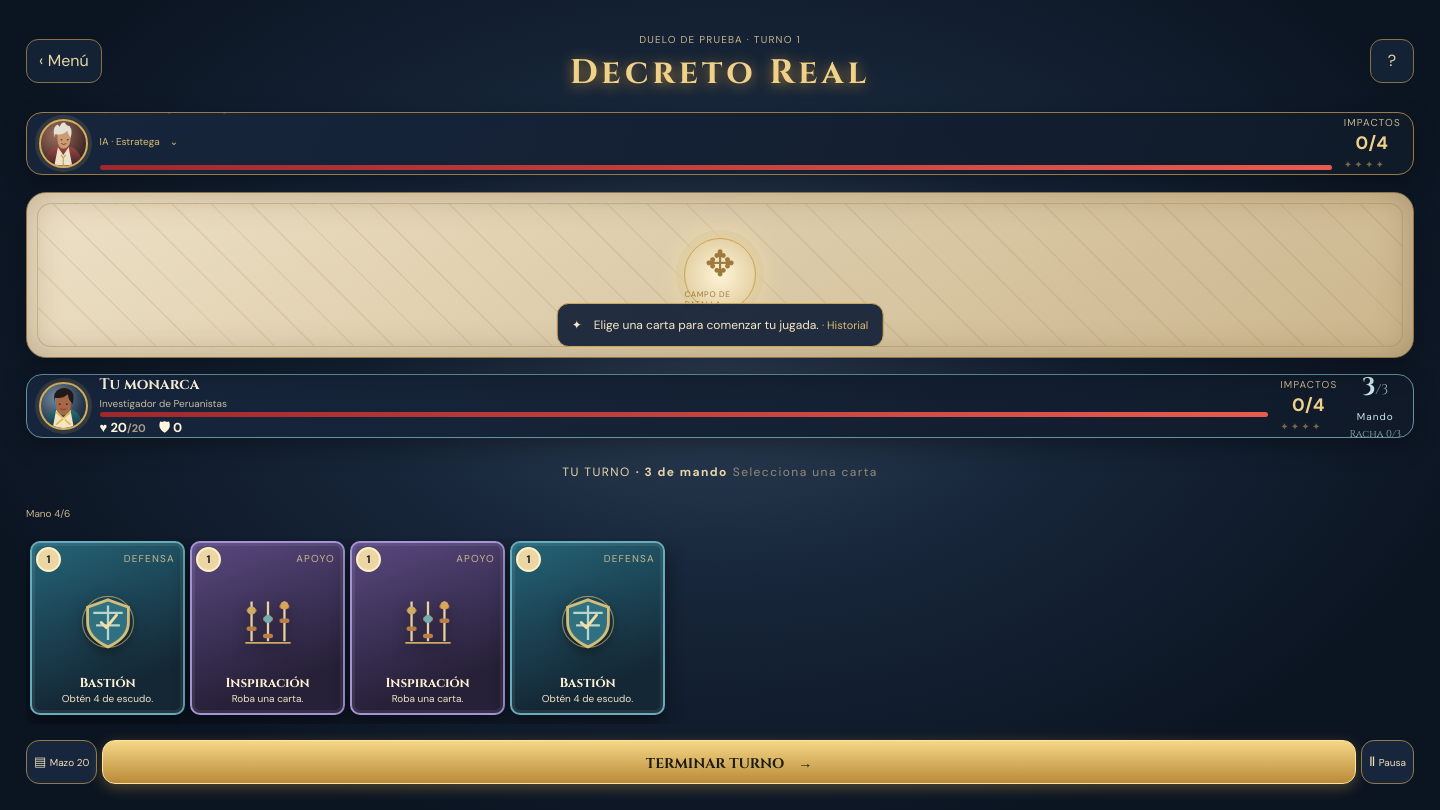
/duelo-v1 + real DR-01 engine › shows rival turn, blocks actions and resolves exactly once at 700 ms in StrictMode
Later steps or results of the test are not shown.
What coordinates should you click on to do the following:
click the button "TERMINAR TURNO →"
I would click on:
 (729, 762)
Its box is [102, 740, 1356, 784].
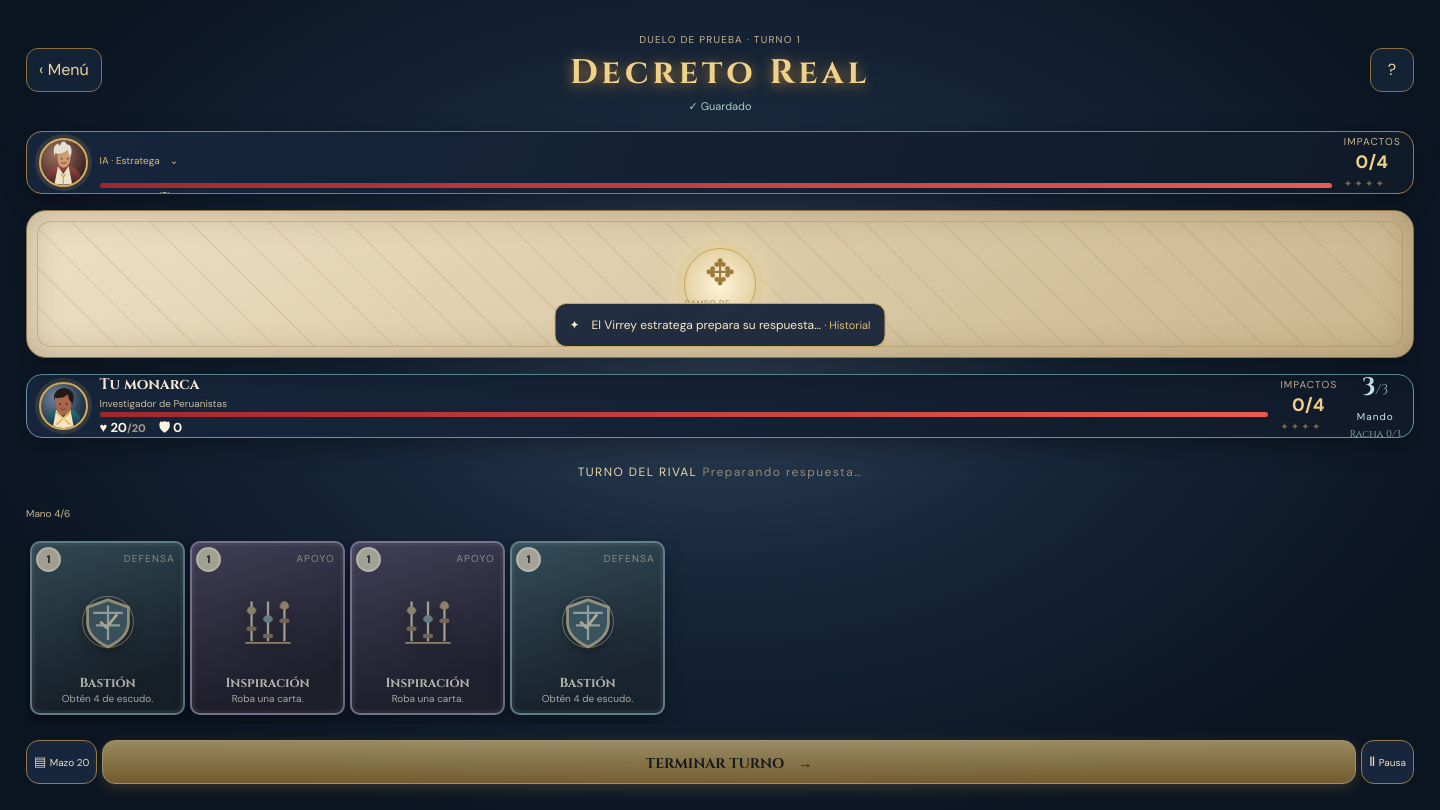
Now the message with class "dr-prompt" shows "TURNO DEL RIVAL", box [578, 464, 697, 480]
Now the button "TERMINAR TURNO →" is disabled, box [102, 740, 1356, 784]
